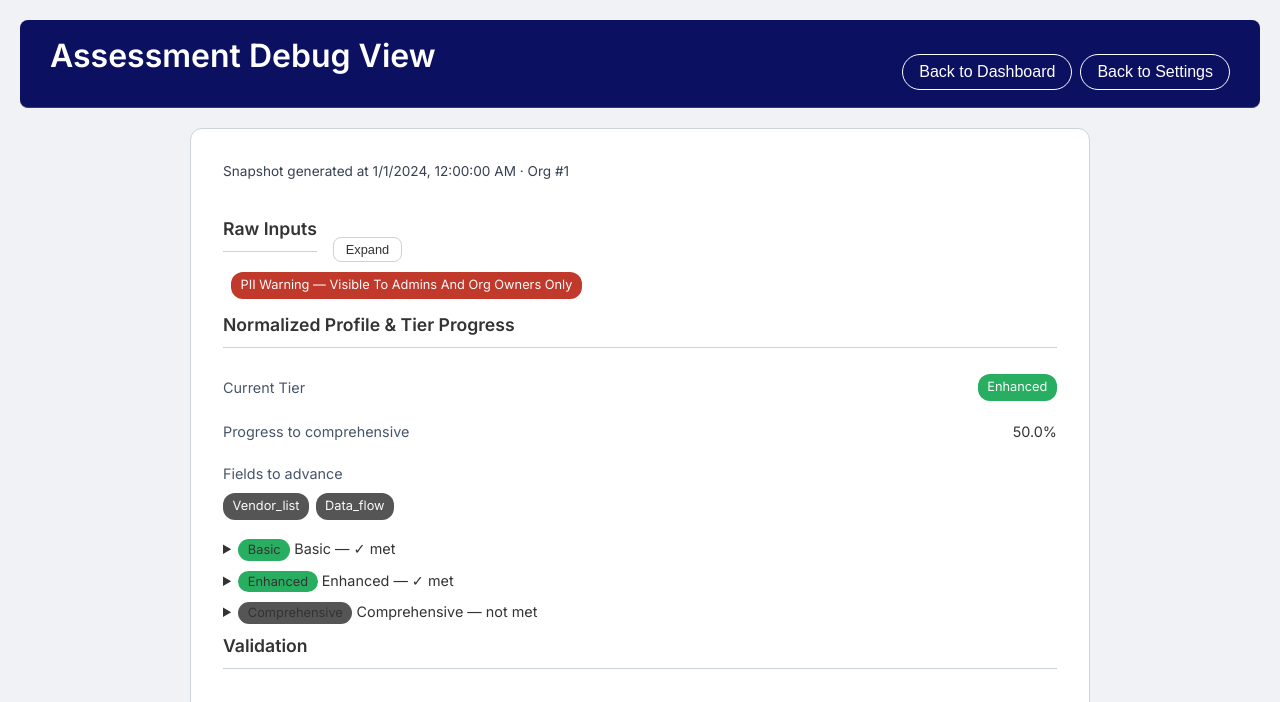
Test case: AssessmentDebugPage › Raw Profile Section › expands raw profile data when clicking expand
This screenshot has width=1280, height=702.
What coordinates should you click on to do the following:
click the button "Expand"
I would click on:
 (368, 250)
Its box is [333, 237, 402, 262].
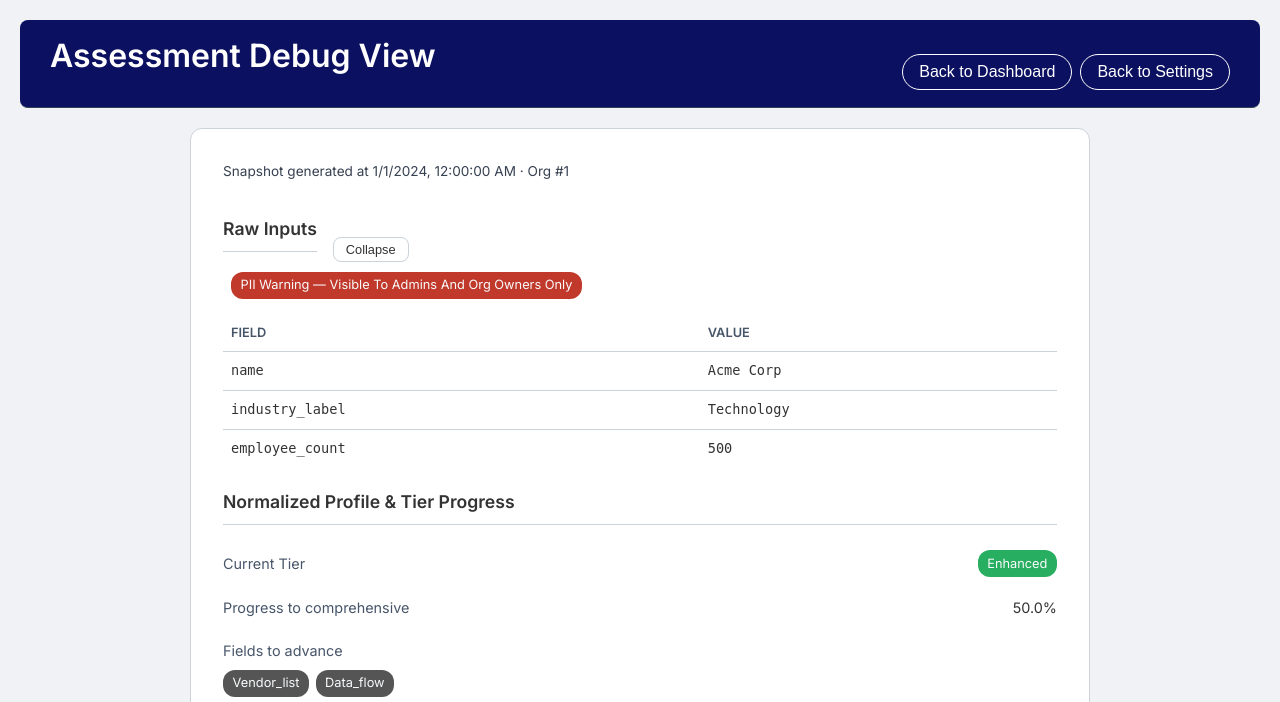
Result: the text "name" is shown at [223, 352, 700, 391]
Result: the text "Acme Corp" is shown at [700, 352, 1057, 391]
